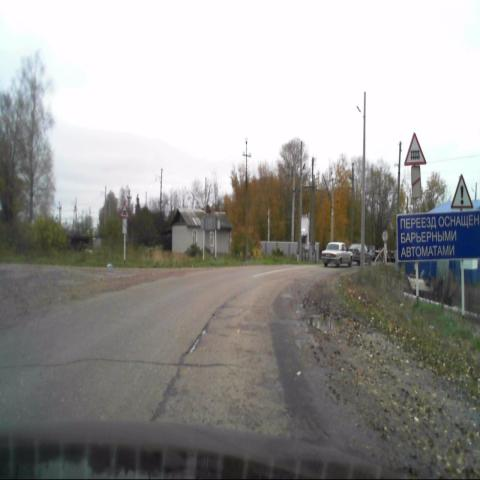1_1: (404, 132, 426, 166)
1_33: (450, 174, 472, 208)
